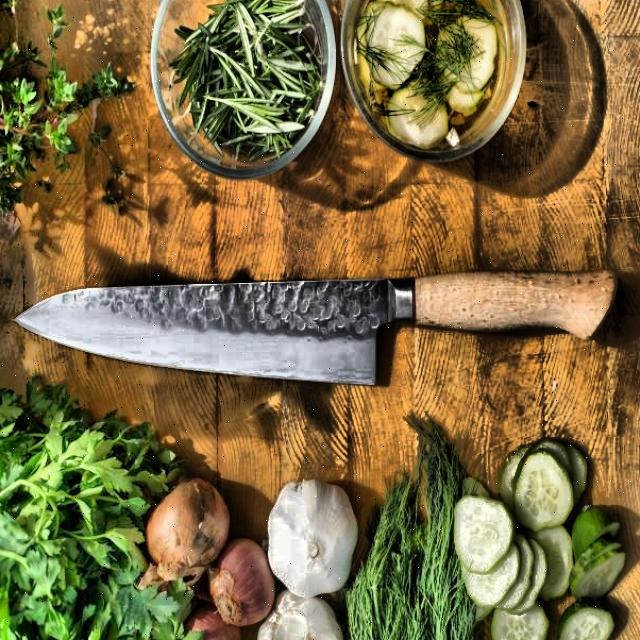knife: (11, 264, 629, 398)
